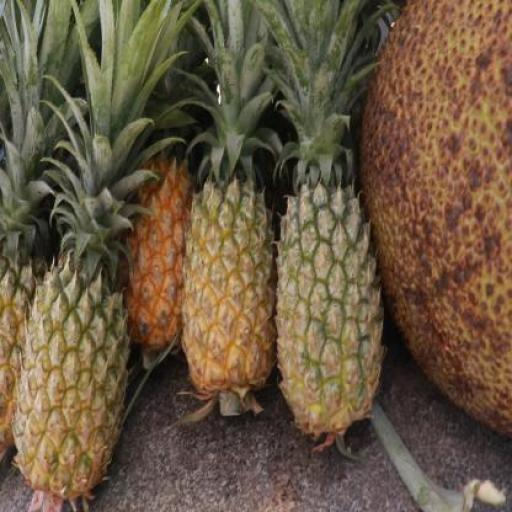------------------------------: (18, 272, 125, 495)
Pineapple - v8 v1: (184, 171, 278, 390), (125, 152, 201, 358)
